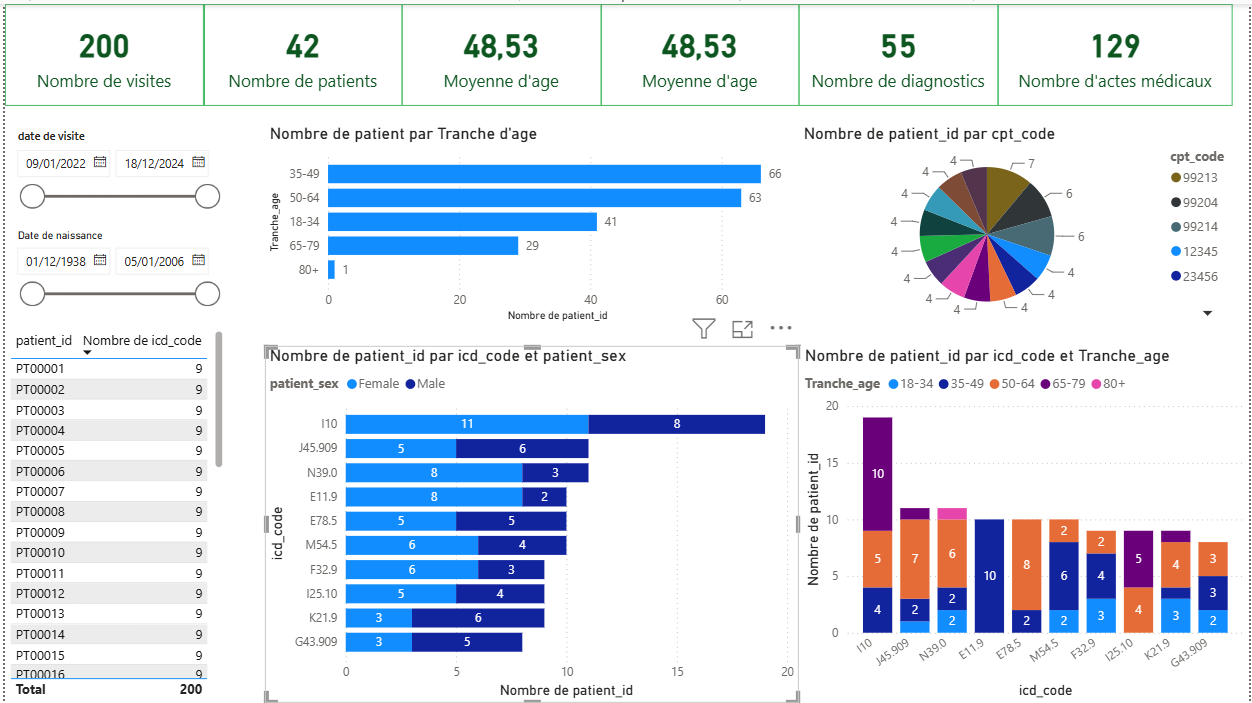

The page's visual inventory and layout, read from the dashboard file:
{"tool":"powerbi","page":{"name":"Page 1","canvas":[1280,720],"ordinal":0},"visuals":[{"type":"card","fields":{"Values":["CountNonNull(patient_visits.visit_id)"]},"box":[0,0,204.6,104.8],"z":0},{"type":"card","fields":{"Values":["Avg(patient_visits.patient_age)"]},"box":[408.6,0,205,104.7],"z":1},{"type":"card","fields":{"Values":["Count(patient_visits.patient_id)"]},"box":[205,0,203.6,104.7],"z":2},{"type":"card","fields":{"Values":["Count(patient_visits.icd_code)"]},"box":[817.2,0,205,104.7],"z":3},{"type":"card","fields":{"Values":["Avg(patient_visits.patient_age)"]},"box":[613.6,0,203.6,104.7],"z":4},{"type":"slicer","fields":{"Values":["patient_visits.visit_date"]},"box":[0,123.6,229.8,103.2],"z":5},{"type":"slicer","fields":{"Values":["patient_visits.date_of_birth"]},"box":[0,226.8,229.8,104.7],"z":6},{"type":"card","fields":{"Values":["Count(patient_visits.cpt_code)"]},"box":[1022.3,0,241.4,104.7],"z":7},{"type":"barChart","title":"Nombre de patient par Tranche d''age","fields":{"Category":["patient_visits.Tranche_age"],"Y":["CountNonNull(patient_visits.patient_id)"]},"box":[267.6,123.6,549.7,207.9],"z":8},{"type":"barChart","fields":{"Category":["patient_visits.icd_code"],"Y":["CountNonNull(patient_visits.patient_id)"],"Series":["patient_visits.patient_sex"]},"box":[267.6,351.9,549.7,367.9],"z":10},{"type":"tableEx","fields":{"Values":["patient_visits.patient_id","CountNonNull(patient_visits.icd_code)"]},"box":[0,331.5,229.8,388.3],"z":11},{"type":"pieChart","fields":{"Category":["patient_visits.cpt_code"],"Y":["CountNonNull(patient_visits.patient_id)"]},"box":[817.2,123.6,462.4,207.9],"z":12},{"type":"columnChart","fields":{"Category":["patient_visits.icd_code"],"Series":["patient_visits.Tranche_age"],"Y":["CountNonNull(patient_visits.patient_id)"]},"box":[818,352,461,368],"z":13}]}

Visuals, with their boxes in screenshot pixels (x1, y1, x2, y2), scaled from the page's 1280x720 canvas onto the 1252x703 screenshot:
card - CountNonNull(patient_visits.visit_id): (left=0, top=0, right=200, bottom=102)
card - Avg(patient_visits.patient_age): (left=400, top=0, right=600, bottom=102)
card - Count(patient_visits.patient_id): (left=201, top=0, right=400, bottom=102)
card - Count(patient_visits.icd_code): (left=799, top=0, right=1000, bottom=102)
card - Avg(patient_visits.patient_age): (left=600, top=0, right=799, bottom=102)
slicer - patient_visits.visit_date: (left=0, top=121, right=225, bottom=221)
slicer - patient_visits.date_of_birth: (left=0, top=221, right=225, bottom=324)
card - Count(patient_visits.cpt_code): (left=1000, top=0, right=1236, bottom=102)
"Nombre de patient par Tranche d''age" barChart: (left=262, top=121, right=799, bottom=324)
barChart - patient_visits.icd_code x CountNonNull(patient_visits.patient_id): (left=262, top=344, right=799, bottom=702)
tableEx - patient_visits.patient_id x CountNonNull(patient_visits.icd_code): (left=0, top=324, right=225, bottom=702)
pieChart - patient_visits.cpt_code x CountNonNull(patient_visits.patient_id): (left=799, top=121, right=1251, bottom=324)
columnChart - patient_visits.icd_code x patient_visits.Tranche_age: (left=800, top=344, right=1251, bottom=702)
